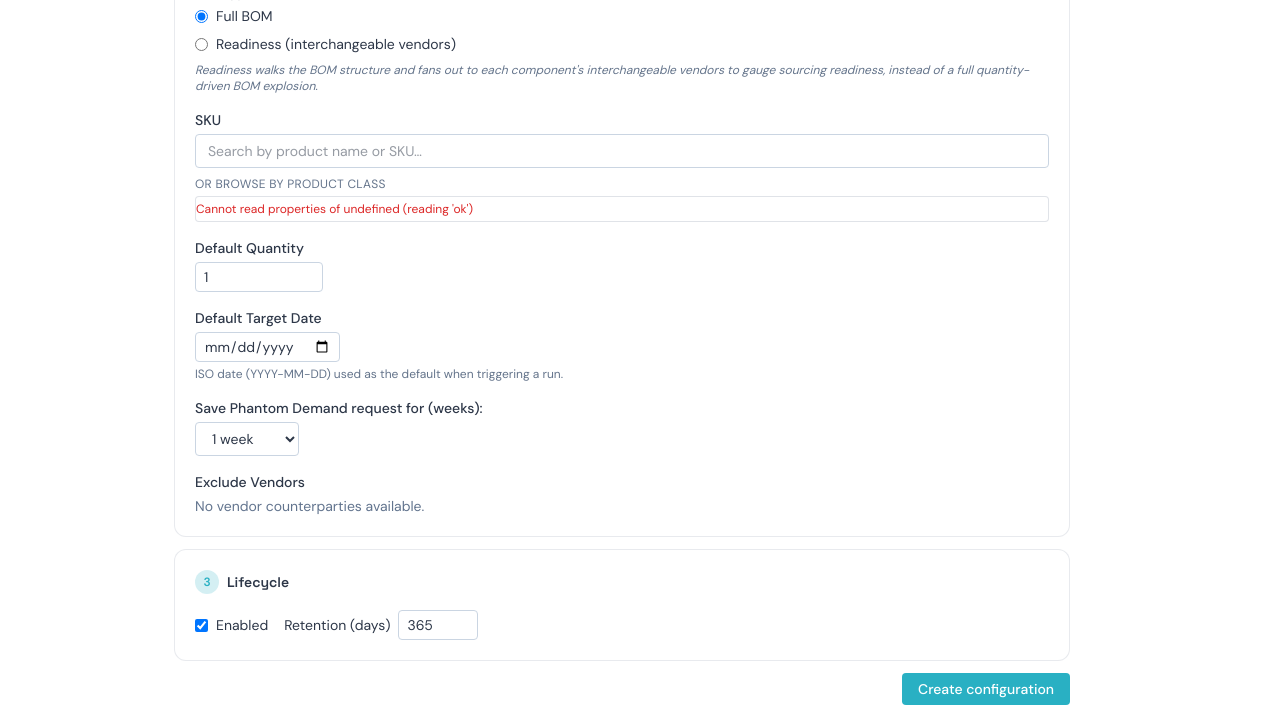
Test: TemplateWizard › blocks Create and surfaces a name error when name is empty
(page scrolled)
Click the button "Create configuration".
click(986, 689)  # box [902, 673, 1070, 704]
(page scrolled)
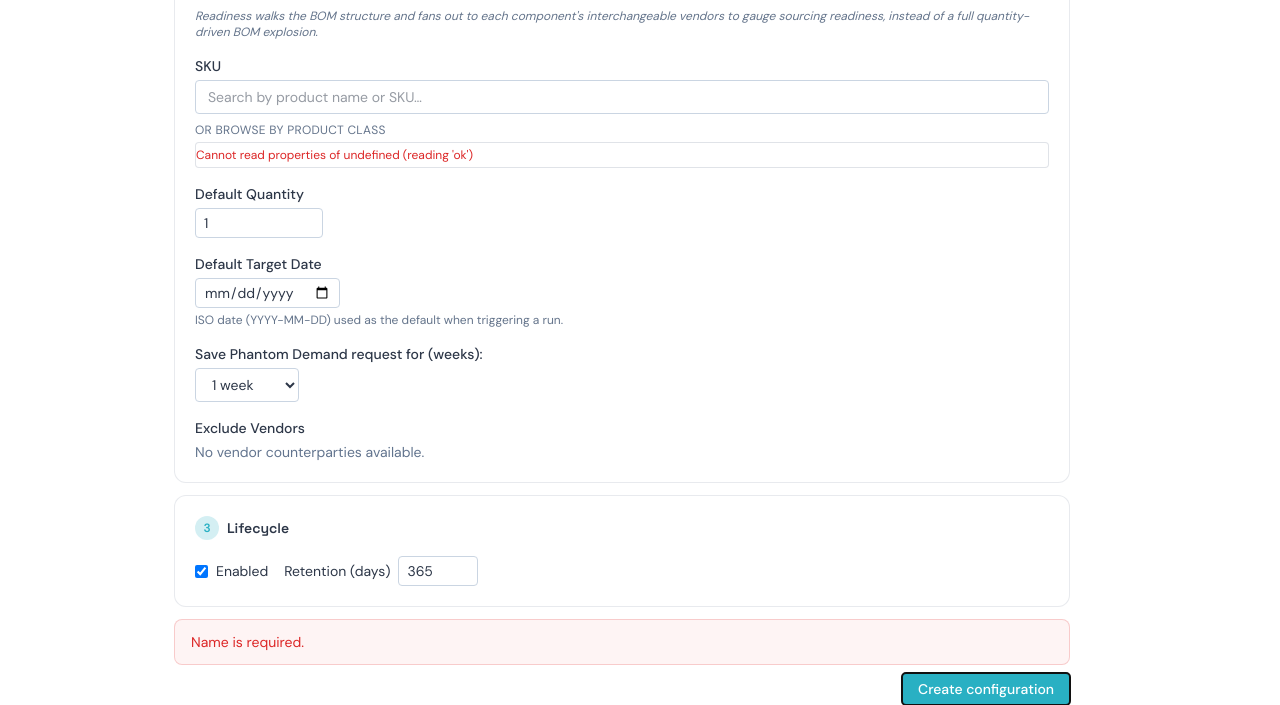
Expected: the text "Name is required." is shown, [191, 633, 304, 651]
